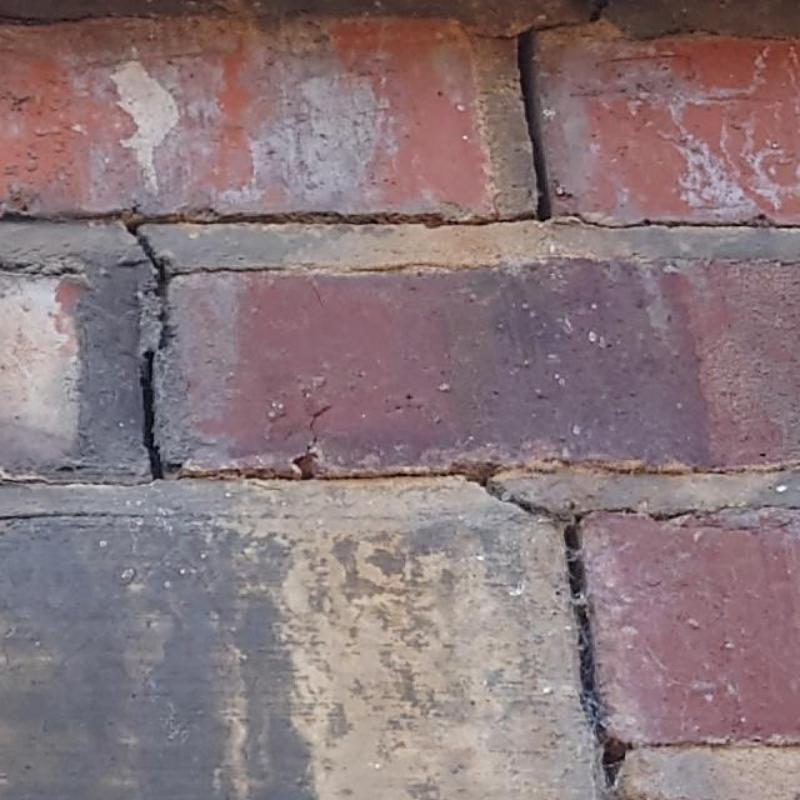pothole: (164, 405, 640, 785), (517, 0, 608, 220), (127, 222, 164, 480), (76, 208, 541, 228), (546, 211, 799, 230), (160, 260, 288, 280), (678, 516, 795, 531), (0, 510, 146, 521), (0, 12, 116, 24), (650, 509, 696, 522), (470, 30, 520, 40), (736, 504, 799, 511), (702, 505, 736, 515)
